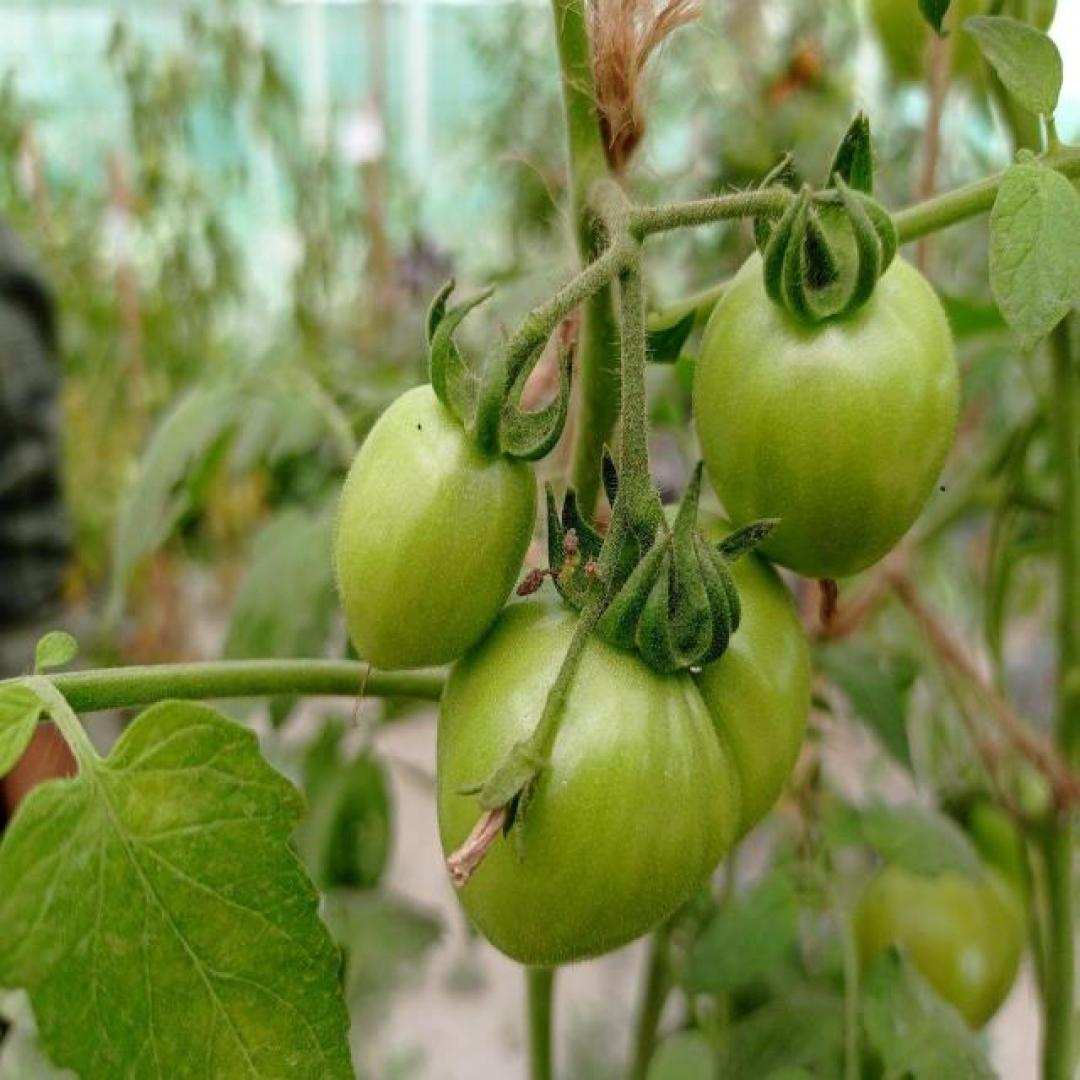mentah: (428, 501, 816, 967), (692, 224, 958, 580), (332, 378, 538, 672)
